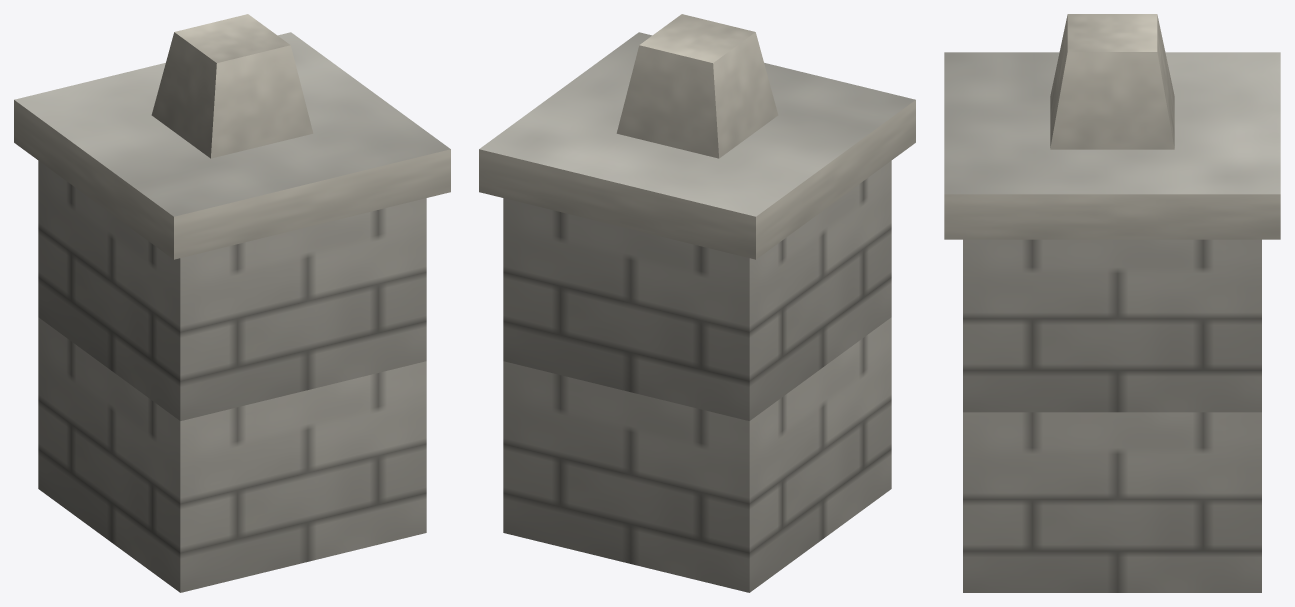
File: retaining_corner_18_01.glb
3 views of the same model, side by side, from view 1: azimuth 30°, elevation 25°; view 2: azimuth 150°, elevation 25°; view 3: azimuth 270°, elevation 25° (orthographic). The views are drawn at different scales.
Parts seen in each view (by area): view 1: retaining_corner_18_01; view 2: retaining_corner_18_01; view 3: retaining_corner_18_01.
Part boxes in pixels (x1,y1,x2,y2): retaining_corner_18_01: (14, 14, 450, 592); retaining_corner_18_01: (479, 14, 915, 592); retaining_corner_18_01: (944, 14, 1280, 592).
Size of the model in its own units: 1.35 by 2.2 by 1.35.
Materials: 1 (1 with a texture image).
